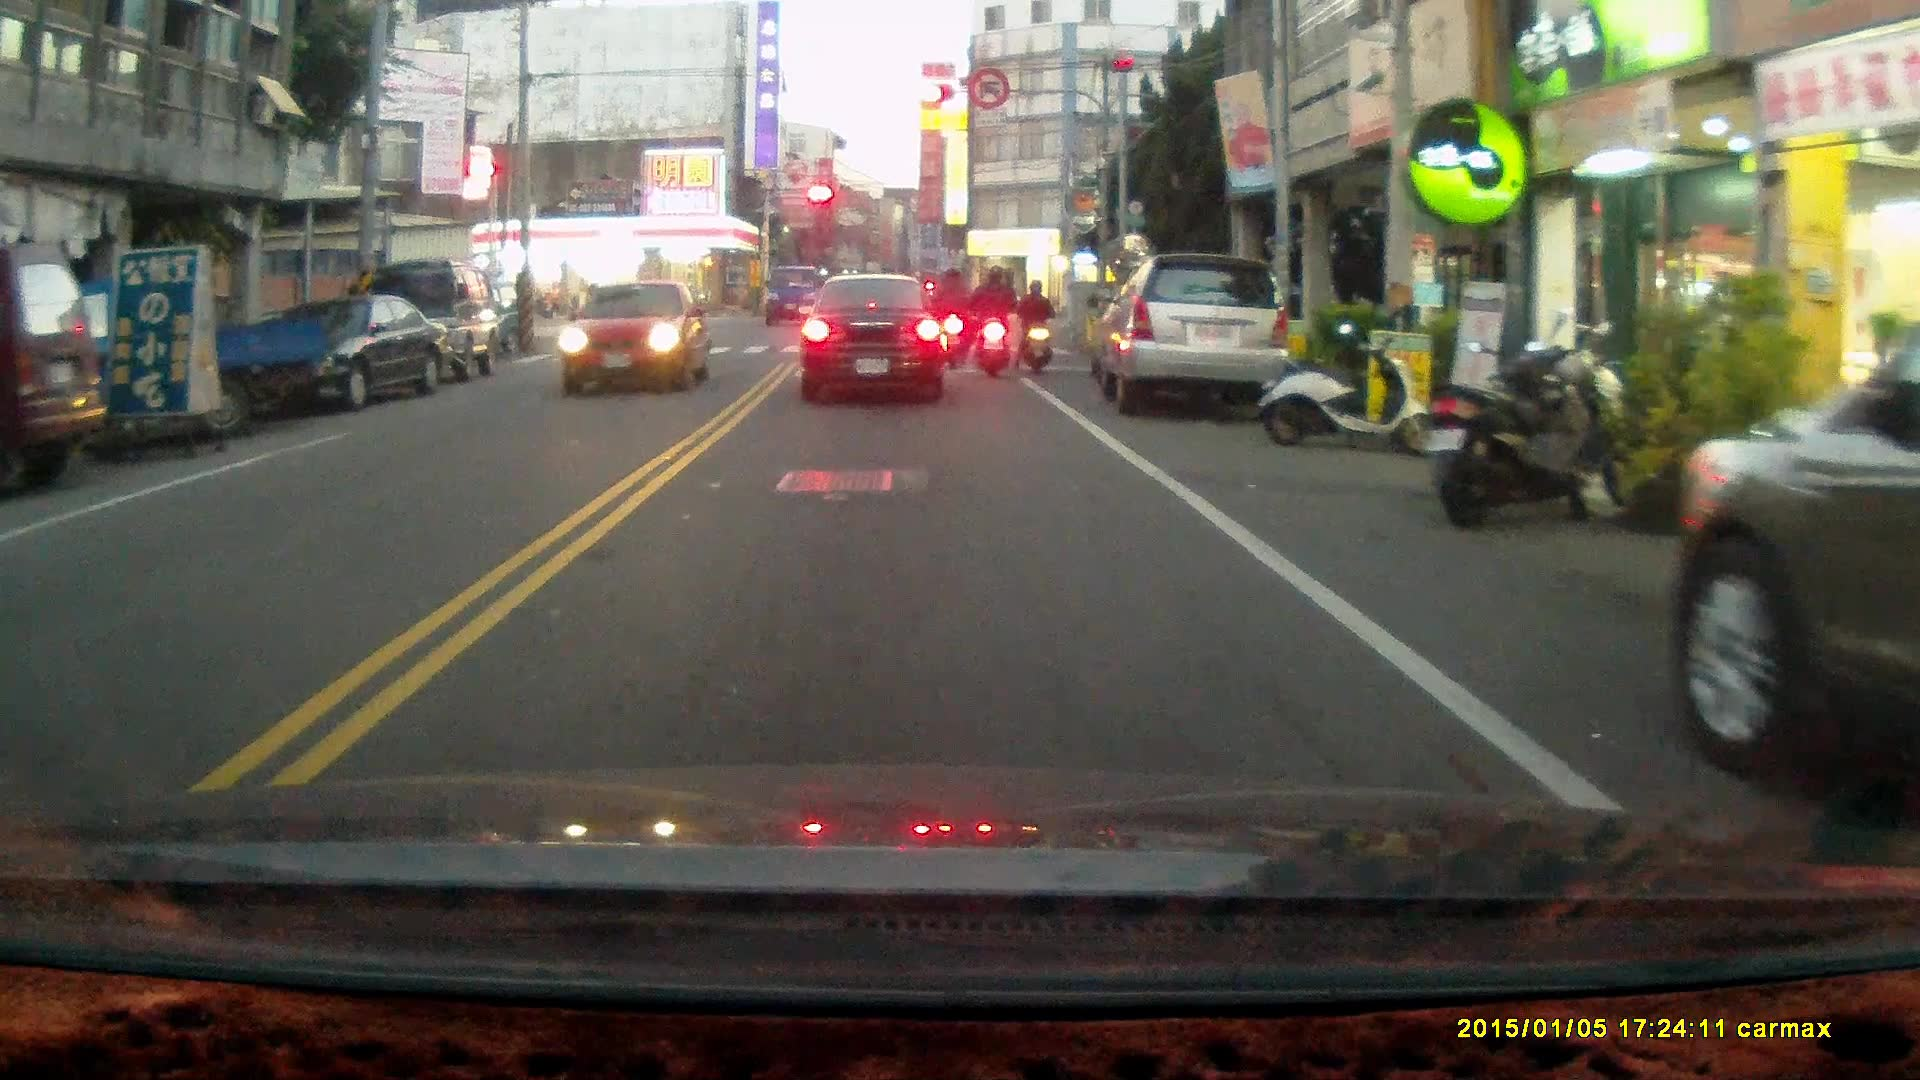rider: (964, 267, 1017, 383), (931, 268, 970, 372), (1015, 280, 1056, 380)
vehicle: (1670, 278, 1920, 826), (1093, 253, 1297, 426), (1, 238, 117, 499), (227, 293, 452, 412), (799, 272, 947, 408), (356, 256, 505, 390), (556, 279, 707, 397)
